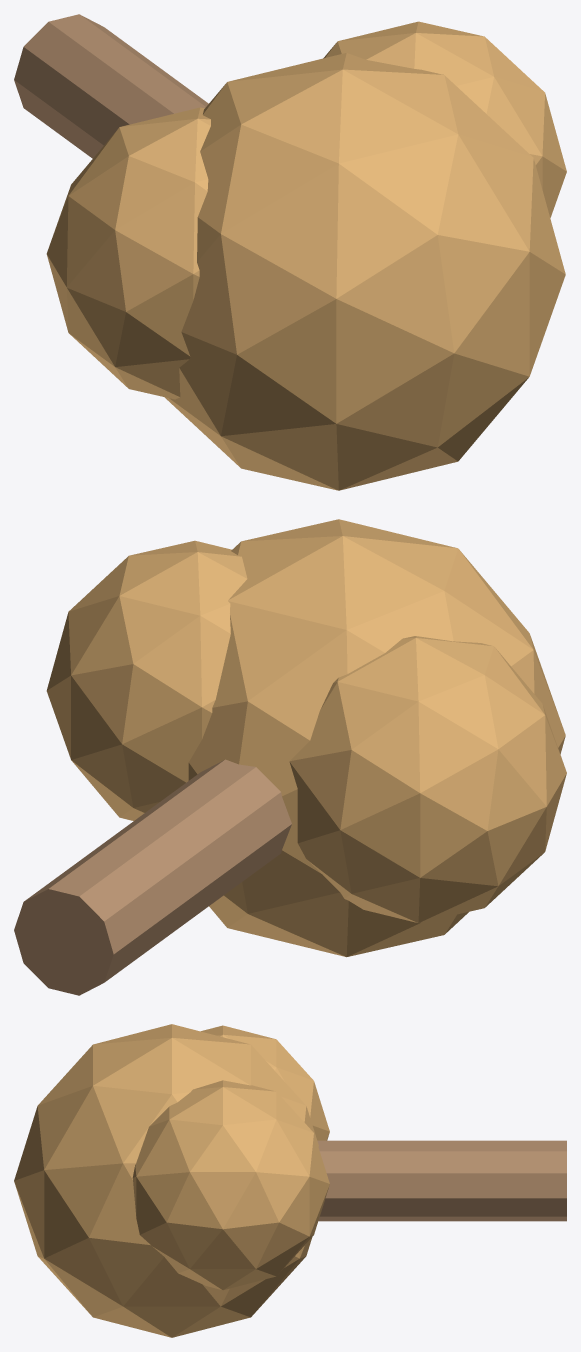
The model's file is env_city_tree_autumn.glb.
3 views of the same model, one above another, from view 1: azimuth 30°, elevation 25°; view 2: azimuth 150°, elevation 25°; view 3: azimuth 270°, elevation 25° (orthographic). The views are drawn at different scales.
Visible parts, largest first — view 1: foliage_1, foliage_3, trunk, foliage_2; view 2: foliage_3, foliage_1, foliage_2, trunk; view 3: foliage_1, foliage_2, trunk, foliage_3.
Part boxes in pixels (<box>): foliage_1: <box>164,53,565,490</box>; foliage_3: <box>46,107,210,399</box>; trunk: <box>14,14,208,158</box>; foliage_2: <box>323,21,566,217</box>; foliage_3: <box>289,636,566,923</box>; foliage_1: <box>188,519,565,957</box>; foliage_2: <box>46,540,247,820</box>; trunk: <box>14,759,291,995</box>; foliage_1: <box>14,1024,318,1337</box>; foliage_2: <box>132,1080,329,1290</box>; trunk: <box>317,1140,566,1221</box>; foliage_3: <box>201,1025,329,1140</box>.
Bounding box in the file's own units: 1.54 × 1.24 × 2.17.
